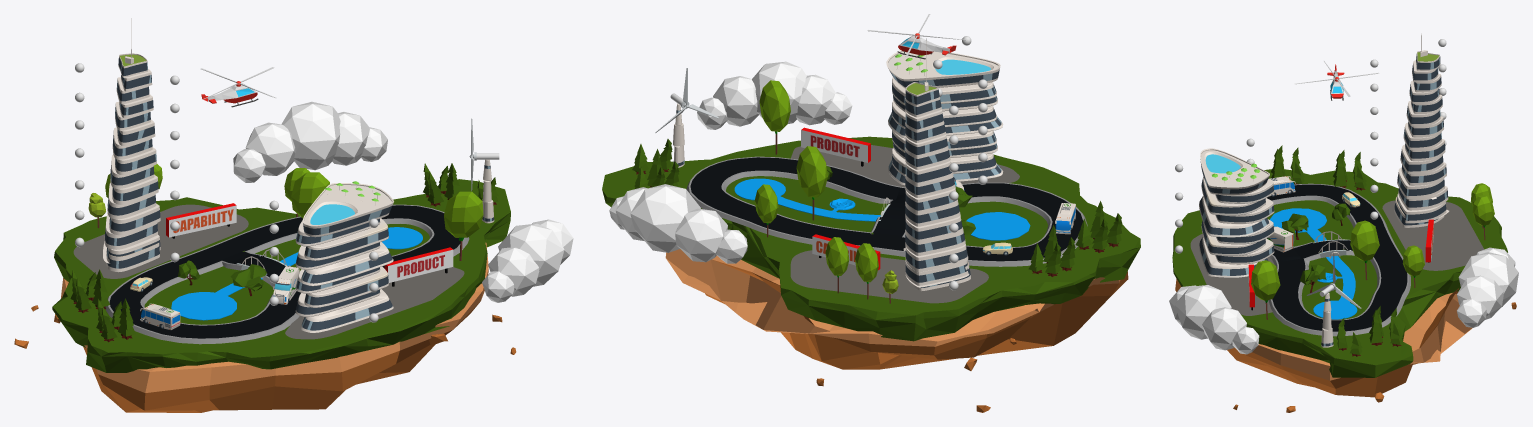
File: island_media.eb9dcbf4.fbx
The picture shows the model from 3 angles, left to right: view 1: azimuth 30°, elevation 25°; view 2: azimuth 150°, elevation 25°; view 3: azimuth 270°, elevation 25°; orthographic projection. The views are drawn at different scales.
Parts seen in each view (by area): view 1: sea, Island, hot_building_1, Road, hot_building_0, cloud_000, cloud_001, Eco_City_Stump2_301, Line173, Line172, water, Tree_3_1_131 (+8 smaller); view 2: sea, Island, Road, hot_building_0, hot_building_1, cloud_000, cloud_001, Eco_City_Stump2_301, Line173, water, Line172, Box001 (+9 smaller); view 3: sea, Road, hot_building_1, Island, hot_building_0, cloud_001, Eco_City_Stump2_301, cloud_000, Line173, water, Line172, Tree_3_1_127 (+10 smaller).
Part boxes in pixels (x1=…): sea: x1=52, y1=179, x2=510, y2=372; Island: x1=61, y1=242, x2=488, y2=412; hot_building_1: x1=295, y1=181, x2=393, y2=333; Road: x1=105, y1=204, x2=469, y2=344; hot_building_0: x1=103, y1=18, x2=160, y2=263; cloud_000: x1=233, y1=101, x2=387, y2=182; cloud_001: x1=482, y1=219, x2=573, y2=302; Eco_City_Stump2_301: x1=70, y1=163, x2=498, y2=342; Line173: x1=73, y1=204, x2=248, y2=278; Line172: x1=285, y1=267, x2=464, y2=339; water: x1=171, y1=227, x2=422, y2=320; Tree_3_1_131: x1=444, y1=191, x2=483, y2=260; sea: x1=602, y1=136, x2=1140, y2=341; Island: x1=665, y1=249, x2=1128, y2=369; Road: x1=686, y1=156, x2=1087, y2=266; hot_building_0: x1=903, y1=38, x2=969, y2=287; hot_building_1: x1=886, y1=50, x2=1003, y2=185; cloud_000: x1=609, y1=184, x2=747, y2=263; cloud_001: x1=697, y1=61, x2=852, y2=129; Eco_City_Stump2_301: x1=632, y1=139, x2=1122, y2=276; Line173: x1=790, y1=250, x2=988, y2=303; water: x1=734, y1=178, x2=1030, y2=240; Line172: x1=791, y1=145, x2=1019, y2=187; Box001: x1=801, y1=127, x2=870, y2=166; sea: x1=1172, y1=169, x2=1507, y2=377; Road: x1=1267, y1=183, x2=1410, y2=336; hot_building_1: x1=1199, y1=148, x2=1274, y2=277; Island: x1=1175, y1=278, x2=1472, y2=397; hot_building_0: x1=1397, y1=33, x2=1449, y2=223; cloud_001: x1=1169, y1=285, x2=1259, y2=354; Eco_City_Stump2_301: x1=1271, y1=145, x2=1402, y2=356; cloud_000: x1=1457, y1=247, x2=1518, y2=327; Line173: x1=1382, y1=200, x2=1484, y2=270; water: x1=1269, y1=208, x2=1357, y2=319; Line172: x1=1190, y1=234, x2=1274, y2=315; Tree_3_1_127: x1=1350, y1=220, x2=1379, y2=280.
Bounding box in the file's own units: 56.9 × 43.58 × 42.75.
Materials: 27 (10 with a texture image).
